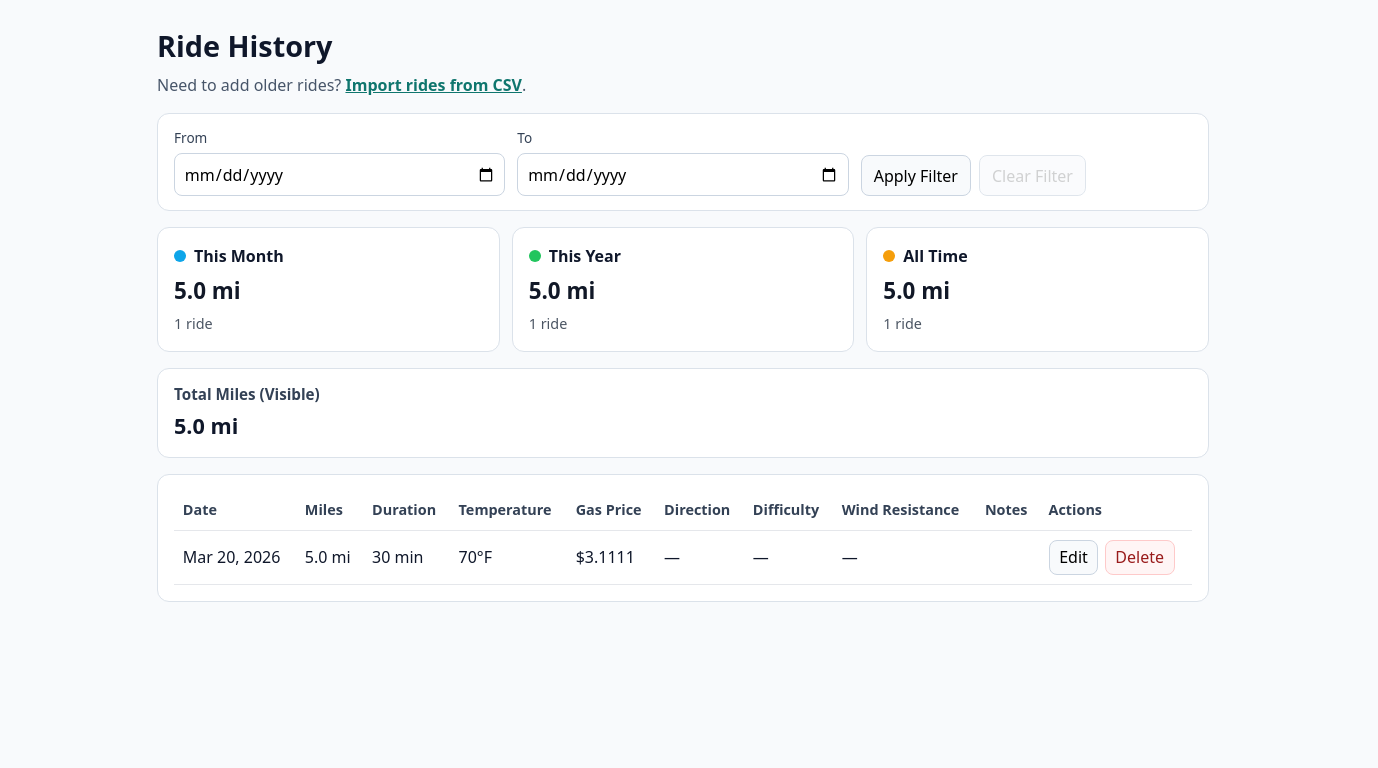
Test case: HistoryPage › should enter edit mode for a row when Edit is clicked
This screenshot has width=1378, height=768.
Click the button "Edit" at (1073, 557), box [1048, 540, 1098, 575]
(page scrolled)
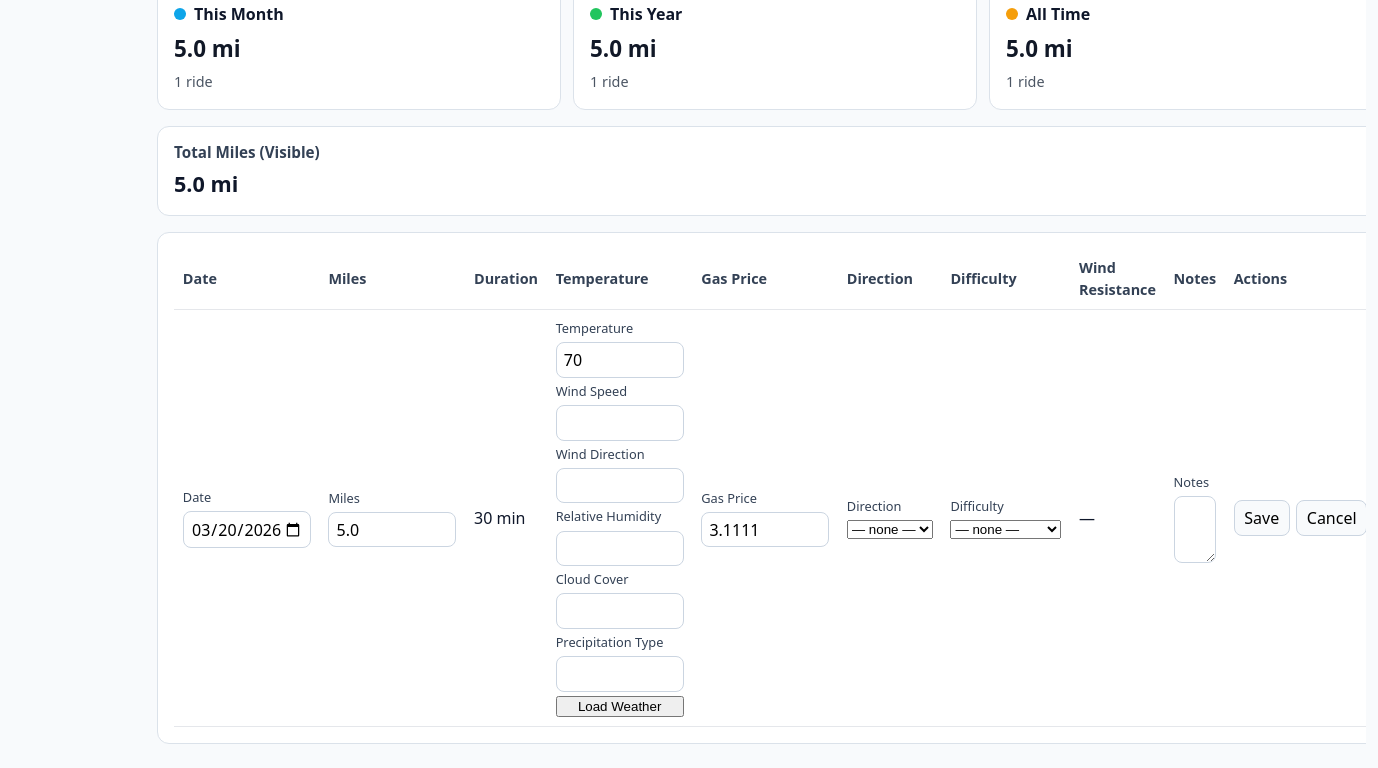
Now the button "Save" is shown, box [1234, 500, 1290, 536]
Now the number field labelled "Gas Price" holds "3.1111", box [701, 512, 829, 547]
